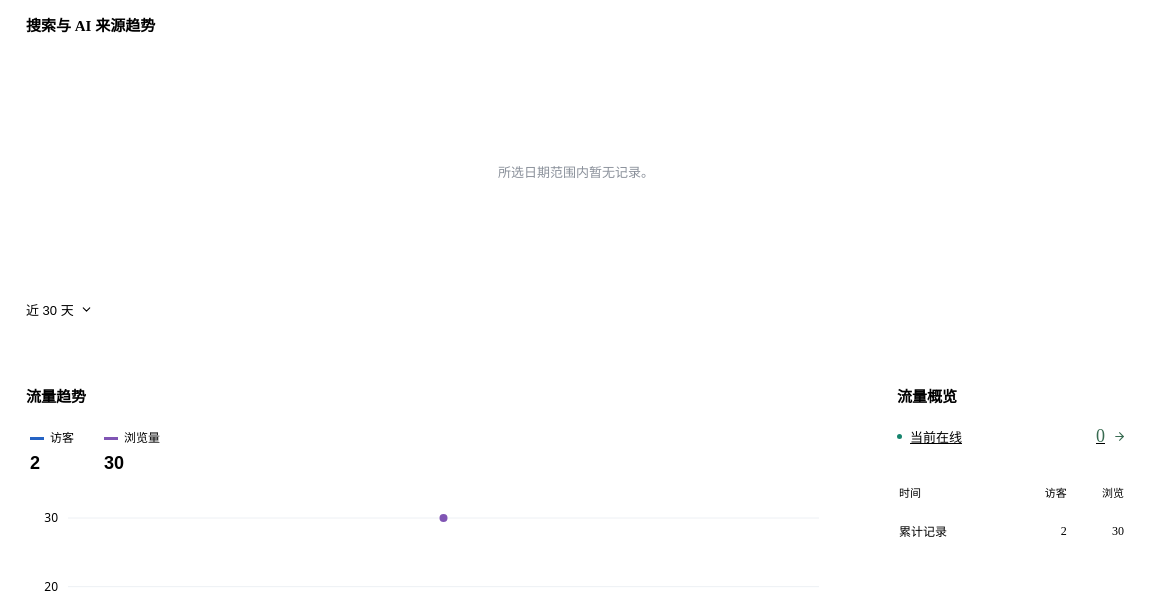
it: removes report filters and ignores old dimension selections in saved URLs
Later steps or results of the test are not shown.
Click the button "近 30 天" at {"x": 59, "y": 310}, box [26,294,93,326]
(page scrolled)
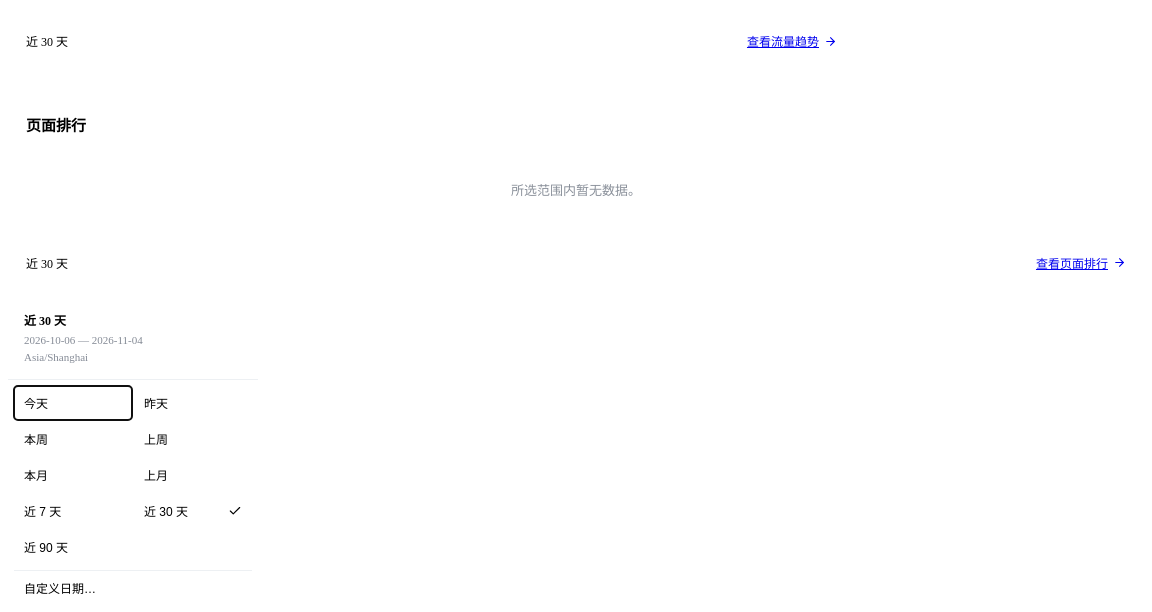
Check: the button "近 7 天" is shown, box [14,494,132,528]
